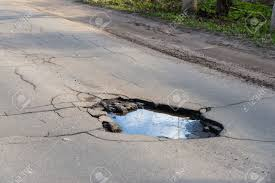pothole: (77, 89, 251, 161)
